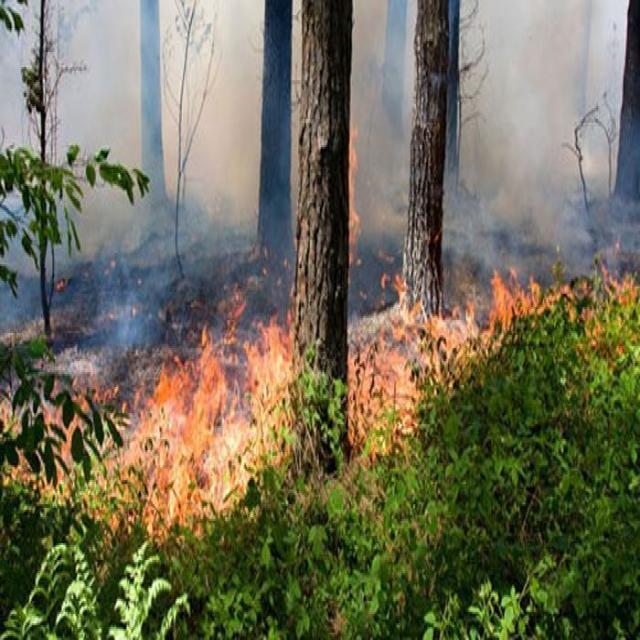Fire: (146, 303, 300, 528), (0, 344, 163, 521), (329, 295, 449, 442), (458, 279, 542, 345), (596, 261, 640, 383), (246, 318, 296, 404), (346, 109, 365, 266)
Smoke: (40, 21, 238, 246), (448, 29, 593, 256)
